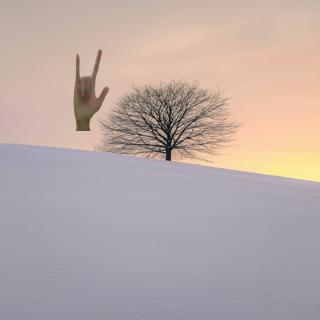ILY: (70, 47, 112, 123)
